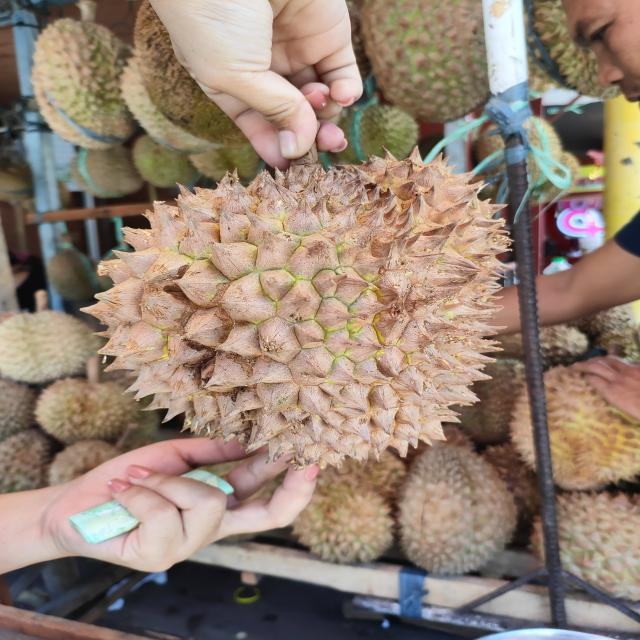mature: (81, 144, 516, 470), (399, 444, 526, 578)
